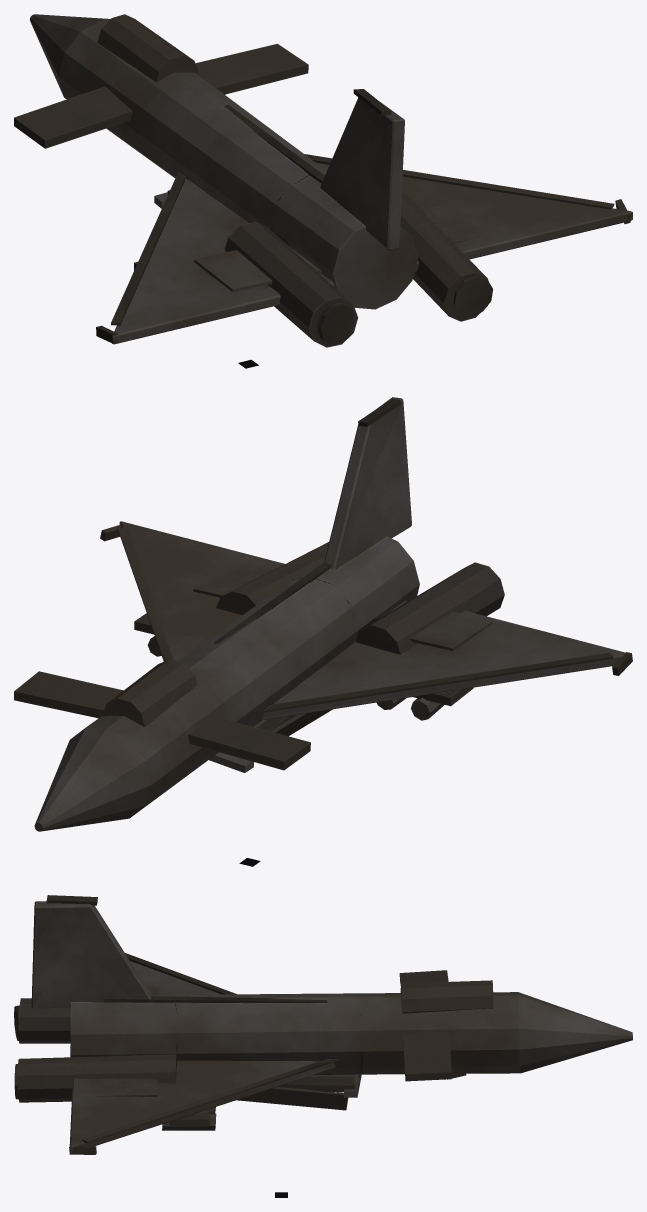
Rendered from chs_plague_wreck.fbx.
3 renders of one model, top to bottom at view 1: azimuth 30°, elevation 25°; view 2: azimuth 150°, elevation 25°; view 3: azimuth 270°, elevation 25°, orthographic. The views are drawn at different scales.
Parts seen in each view (by area): view 1: base_bar; view 2: base_bar, pylon_bar, bay_bar; view 3: base_bar, bay_bar, pylon_bar.
Part boxes in pixels (left/top/right/bottom): base_bar: left=14, top=14, right=632, bottom=347; base_bar: left=14, top=397, right=632, bottom=831; pylon_bar: left=134, top=613, right=473, bottom=720; bay_bar: left=209, top=709, right=332, bottom=772; base_bar: left=14, top=895, right=632, bottom=1154; bay_bar: left=237, top=1074, right=361, bottom=1110; pylon_bar: left=162, top=1107, right=216, bottom=1130.
Bounding box in the file's own units: 765 × 503 × 951.
2 materials, 2 textured.
